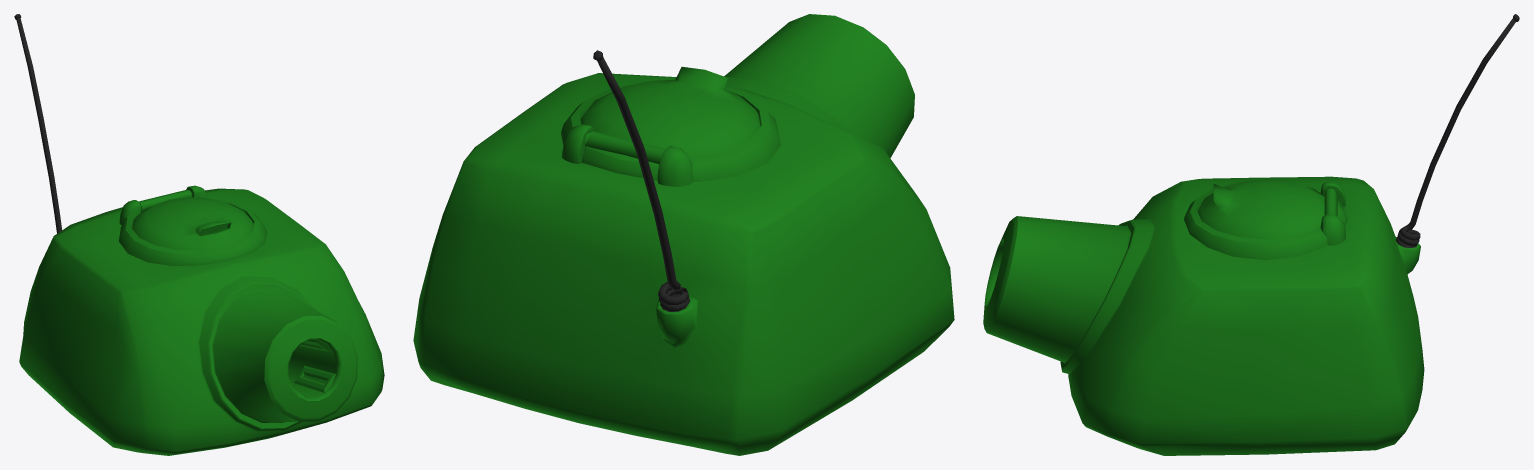
The model's file is TurretNormal.FBX.
3 views of the same model, side by side, from view 1: azimuth 30°, elevation 25°; view 2: azimuth 150°, elevation 25°; view 3: azimuth 270°, elevation 25° (orthographic). The views are drawn at different scales.
Parts seen in each view (by area): view 1: TankTurret; view 2: TankTurret; view 3: TankTurret.
Boxes of the visible parts, x1,y1,x2,y2 form: TankTurret: (14,14,384,455); TankTurret: (413,14,954,455); TankTurret: (983,14,1519,455).
Bounding box in the file's own units: 129 × 144 × 199.
